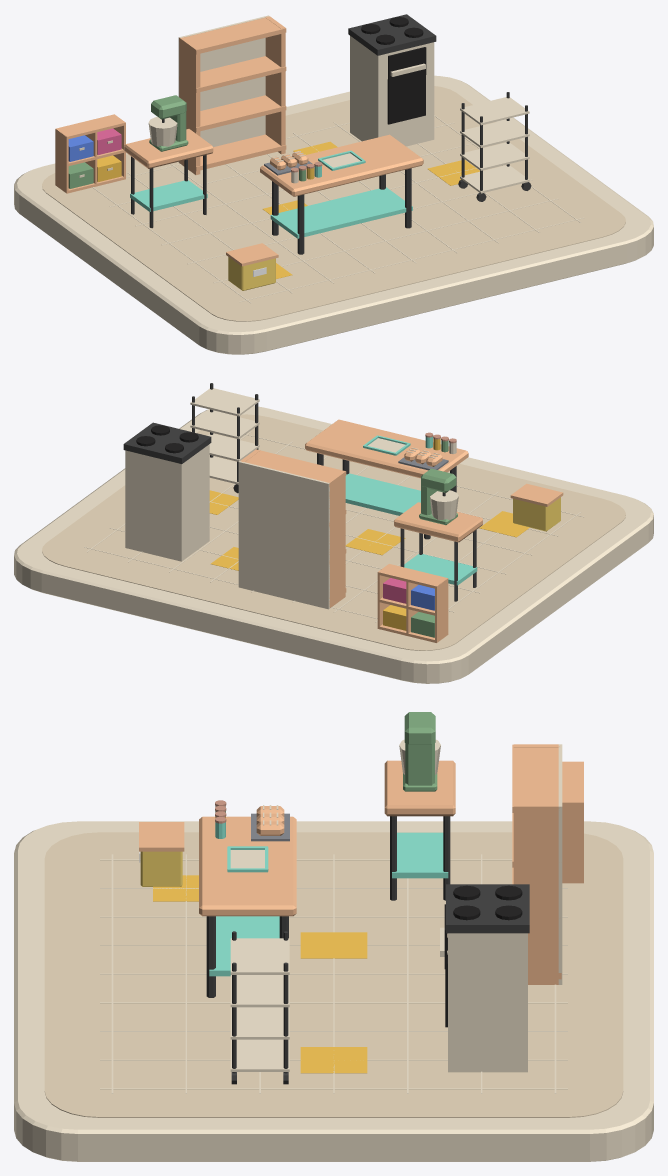
The picture shows the model from 3 angles, top to bottom: view 1: azimuth 30°, elevation 25°; view 2: azimuth 150°, elevation 25°; view 3: azimuth 270°, elevation 25°; orthographic projection. The views are drawn at different scales.
Visible parts, largest first — view 1: COM-02 Floor Surface, COM-01 Rounded Base Direct, Stove, Back, Worktop, Lower shelf, Side.001, Side, Shelf.003, Shelf.002, Hob, Worktop.001 (+20 smaller); view 2: COM-02 Floor Surface, COM-01 Rounded Base Direct, Back, Stove, Worktop, Lower shelf, Side, Hob, Worktop.001, Shelf.003, Box, Lower shelf.001 (+16 smaller); view 3: COM-02 Floor Surface, COM-01 Rounded Base Direct, Stove, Worktop, Side.001, Worktop.001, Hob, Shelf.003, Lower shelf.001, Rack shelf.003, Lower shelf, Geometric color tile.001 (+17 smaller).
Boxes of the visible parts, <box> form: COM-02 Floor Surface: <box>42,86,625,321</box>; COM-01 Rounded Base Direct: <box>14,75,653,354</box>; Stove: <box>350,36,434,146</box>; Back: <box>178,15,269,162</box>; Worktop: <box>260,134,423,196</box>; Lower shelf: <box>270,187,412,238</box>; Side.001: <box>265,16,285,154</box>; Side: <box>179,36,200,174</box>; Shelf.003: <box>179,17,286,54</box>; Shelf.002: <box>179,56,286,92</box>; Hob: <box>348,14,436,55</box>; Worktop.001: <box>124,129,213,168</box>; COM-02 Floor Surface: <box>42,414,625,650</box>; COM-01 Rounded Base Direct: <box>14,405,653,683</box>; Back: <box>238,461,329,609</box>; Stove: <box>125,444,209,561</box>; Worktop: <box>305,419,468,478</box>; Lower shelf: <box>345,473,420,515</box>; Side: <box>326,470,345,607</box>; Hob: <box>123,422,211,463</box>; Worktop.001: <box>394,502,482,542</box>; Shelf.003: <box>245,449,346,487</box>; Box: <box>513,497,560,531</box>; Lower shelf.001: <box>404,554,477,585</box>; COM-02 Floor Surface: <box>44,832,623,1117</box>; COM-01 Rounded Base Direct: <box>14,821,653,1161</box>; Stove: <box>448,933,527,1072</box>; Worktop: <box>199,816,296,916</box>; Side.001: <box>513,803,558,984</box>; Worktop.001: <box>384,760,455,816</box>; Hob: <box>446,884,529,933</box>; Shelf.003: <box>512,744,560,812</box>; Lower shelf.001: <box>392,832,448,878</box>; Rack shelf.003: <box>230,938,289,974</box>; Lower shelf: <box>209,916,279,976</box>; Geometric color tile.001: <box>300,932,367,958</box>.
Bounding box in the file's own units: 6 × 1.9 × 5.2.
1 material, 1 textured.
